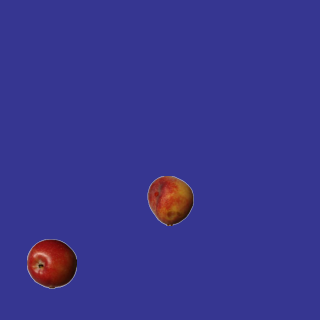Apple Braeburn: (26, 238, 76, 288)
Peach: (145, 175, 195, 225)
